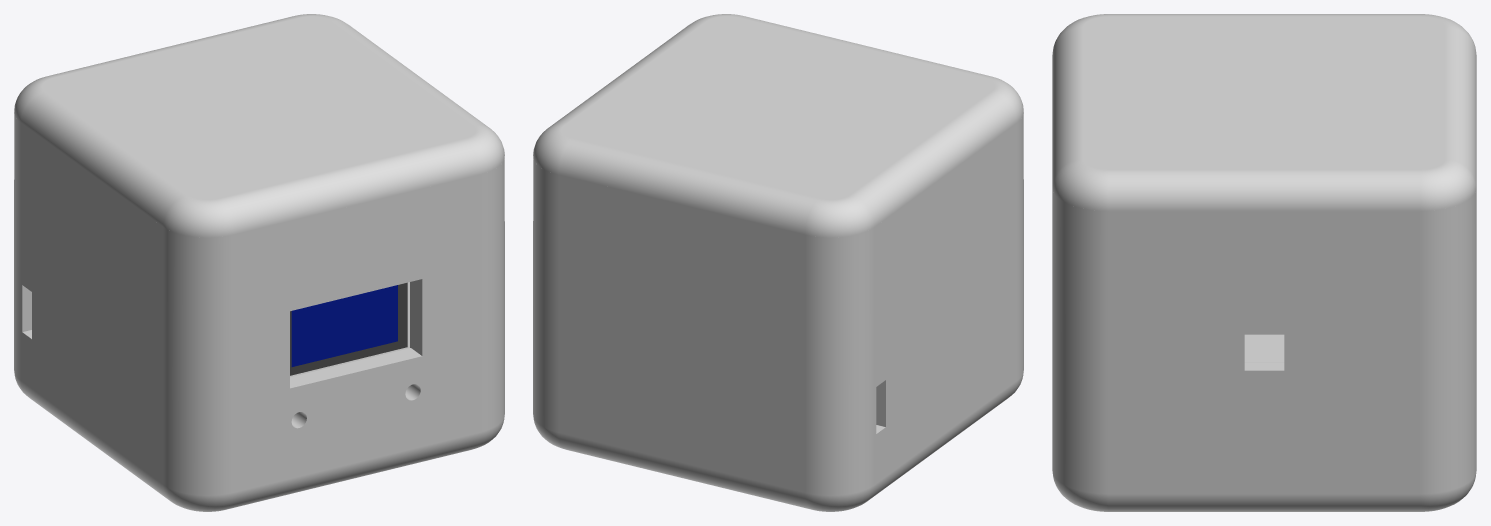
Rendered from toy-robot.glb.
3 views of the same model, side by side, from view 1: azimuth 30°, elevation 25°; view 2: azimuth 150°, elevation 25°; view 3: azimuth 270°, elevation 25° (orthographic). The views are drawn at different scales.
Parts seen in each view (by area): view 1: robobody1-1, robocap-1, OLED-128x64-0.96.step-1; view 2: robobody1-1, robocap-1; view 3: robobody1-1, robocap-1.
Part boxes in pixels (x1=…): robobody1-1: x1=14, y1=114, x2=504, y2=511; robocap-1: x1=14, y1=14, x2=504, y2=237; OLED-128x64-0.96.step-1: x1=290, y1=282, x2=409, y2=377; robobody1-1: x1=533, y1=114, x2=1023, y2=511; robocap-1: x1=533, y1=14, x2=1023, y2=237; robobody1-1: x1=1052, y1=188, x2=1476, y2=511; robocap-1: x1=1052, y1=14, x2=1476, y2=211.
Bounding box in the file's own units: 0.068 × 0.06 × 0.068.
